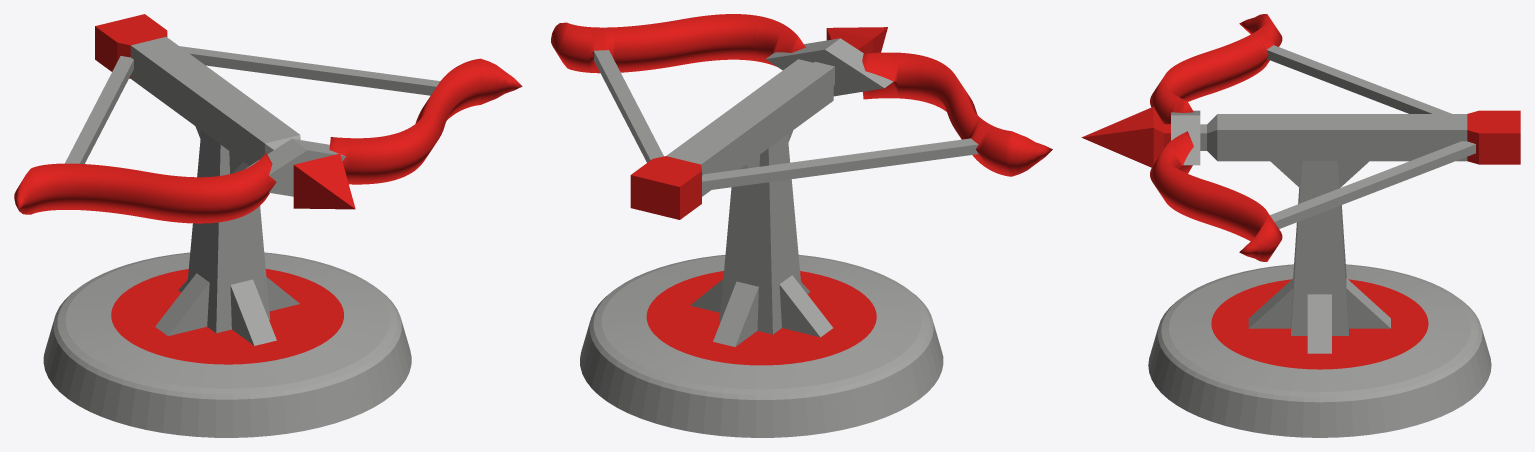
Rendered from ballista_fire.fbx.
3 views of the same model, side by side, from view 1: azimuth 30°, elevation 25°; view 2: azimuth 150°, elevation 25°; view 3: azimuth 270°, elevation 25° (orthographic). The views are drawn at different scales.
Parts seen in each view (by area): view 1: Circle; view 2: Circle; view 3: Circle.
Boxes of the visible parts, x1=… form: Circle: x1=14, y1=14, x2=522, y2=437; Circle: x1=551, y1=14, x2=1052, y2=437; Circle: x1=1081, y1=14, x2=1520, y2=437.
Size of the model in its own units: 410 by 209 by 333.
1 material, 1 textured.
